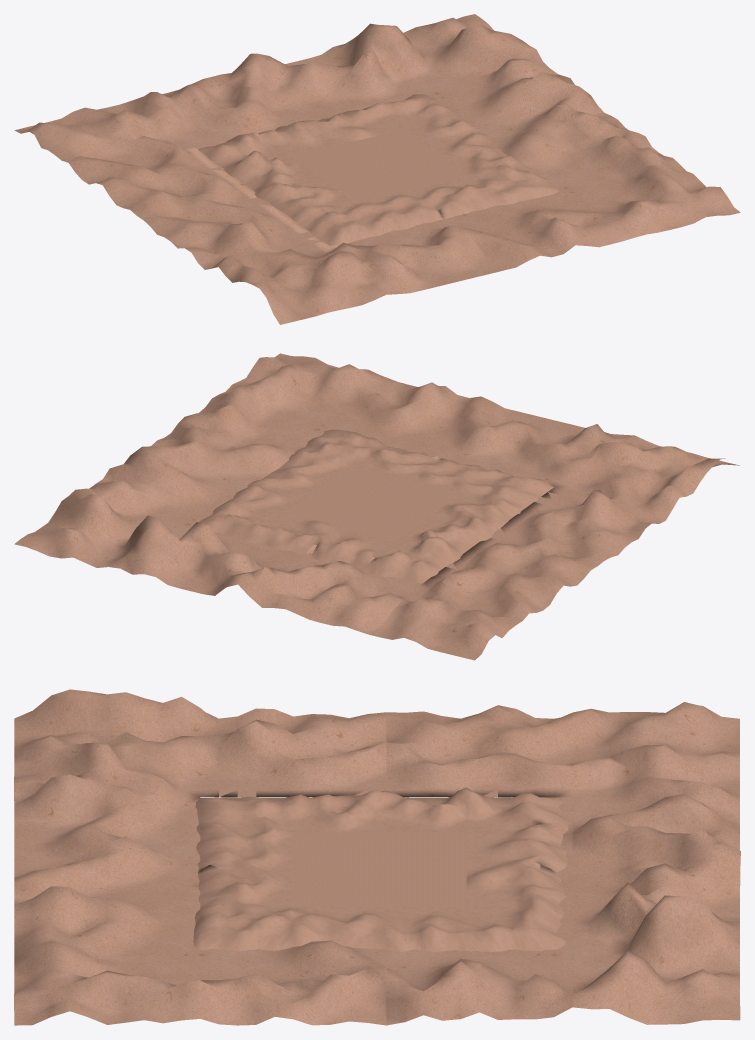
File: desert.glb
3 views of the same model, one above another, from view 1: azimuth 30°, elevation 25°; view 2: azimuth 150°, elevation 25°; view 3: azimuth 270°, elevation 25° (orthographic). The views are drawn at different scales.
Parts seen in each view (by area): view 1: desert; view 2: desert; view 3: desert.
Part boxes in pixels (left/top/right/bottom): desert: left=14, top=14, right=740, bottom=324; desert: left=14, top=353, right=739, bottom=660; desert: left=14, top=689, right=740, bottom=1025.
Bounding box in the file's own units: 822 × 75.19 × 822.
Materials: 1 (1 with a texture image).
